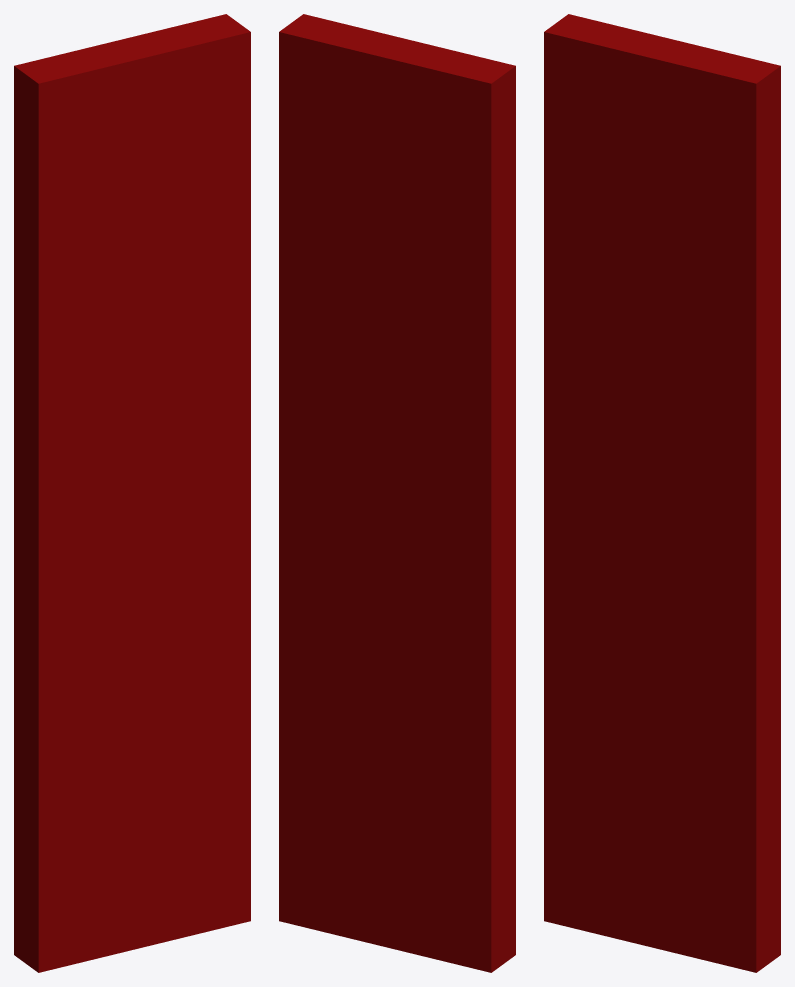
Rendered from SM_RockWallCube01.fbx.
The picture shows the model from 3 angles, left to right: view 1: azimuth 30°, elevation 25°; view 2: azimuth 150°, elevation 25°; view 3: azimuth 330°, elevation 25°; orthographic projection.
Parts seen in each view (by area): view 1: pCube1; view 2: pCube1; view 3: pCube1.
Part boxes in pixels (x1=…): pCube1: x1=14, y1=14, x2=250, y2=972; pCube1: x1=279, y1=14, x2=515, y2=972; pCube1: x1=544, y1=14, x2=780, y2=972.
Size of the model in its own units: 5 by 20 by 1.
